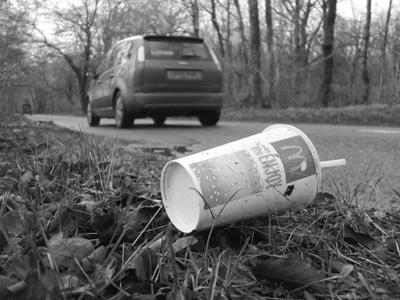cup: (156, 121, 352, 235)
